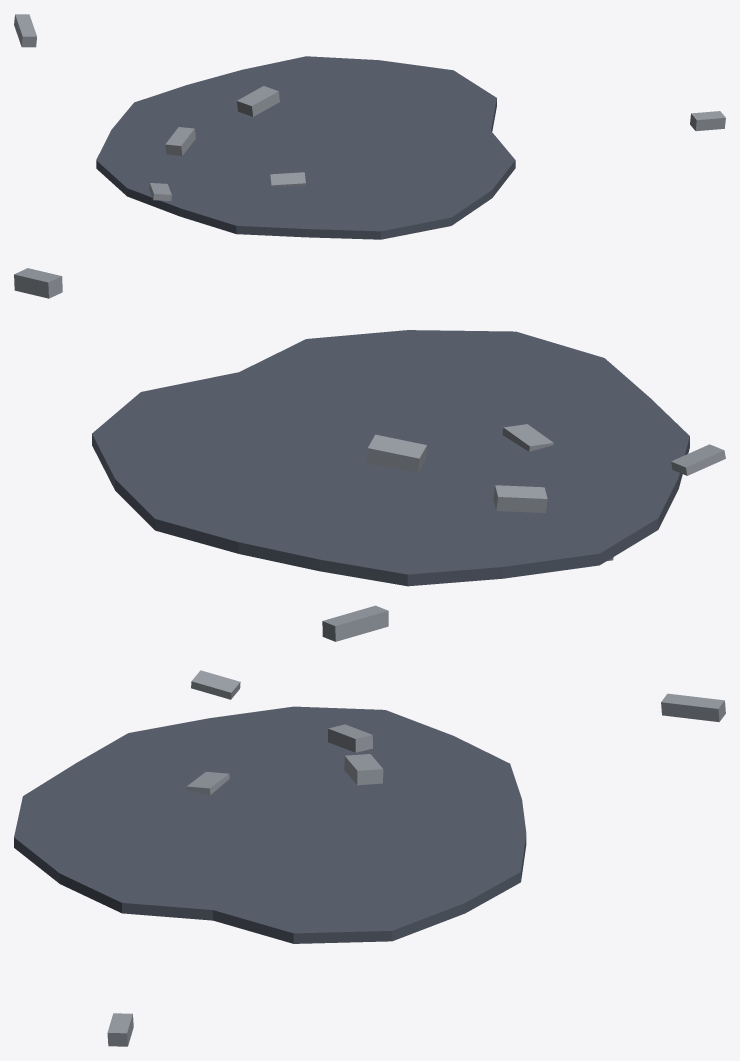
The model's file is pothole.glb.
3 views of the same model, one above another, from view 1: azimuth 30°, elevation 25°; view 2: azimuth 150°, elevation 25°; view 3: azimuth 270°, elevation 25° (orthographic). The views are drawn at different scales.
Parts seen in each view (by area): view 1: Pothole; view 2: Pothole; view 3: Pothole.
Boxes of the visible parts, x1,y1,x2,y2 form: Pothole: (14, 14, 725, 239); Pothole: (14, 268, 725, 641); Pothole: (14, 670, 725, 1046).
Size of the model in its own units: 2.55 by 0.2624 by 2.32.
